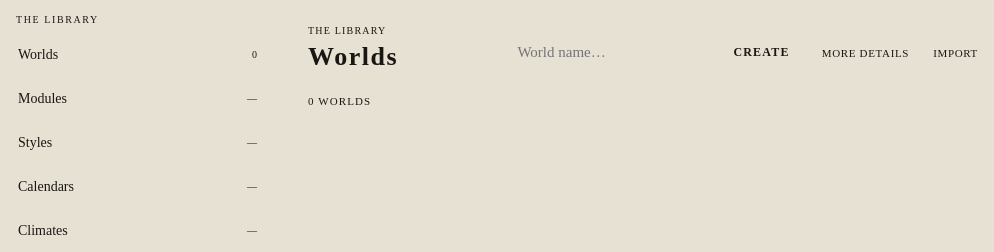
Test: a refused create says why, keeps the name, and refreshes nothing
Step 1. Type "Realm" into the field with placeholder "World name…" → (609, 53), box [505,34,713,71]
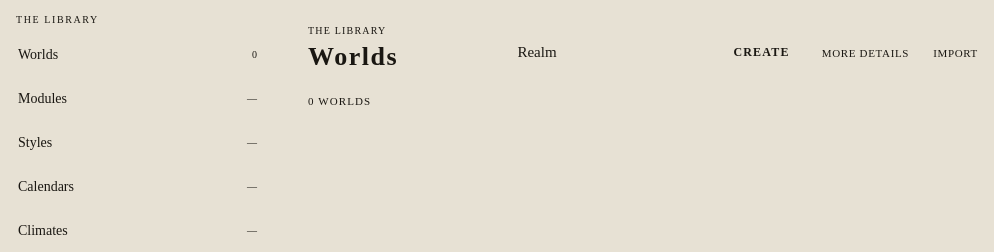
Step 2. Click the button "Create" → (762, 53), box [713,34,810,71]
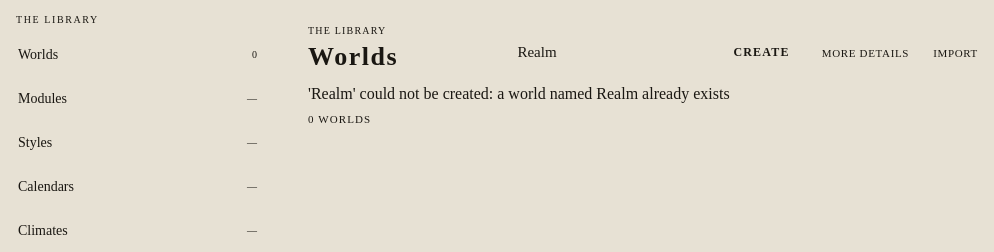
Expected: the message reads "'Realm' could not be created: a world named Realm already exists", [308,85,730,102]
